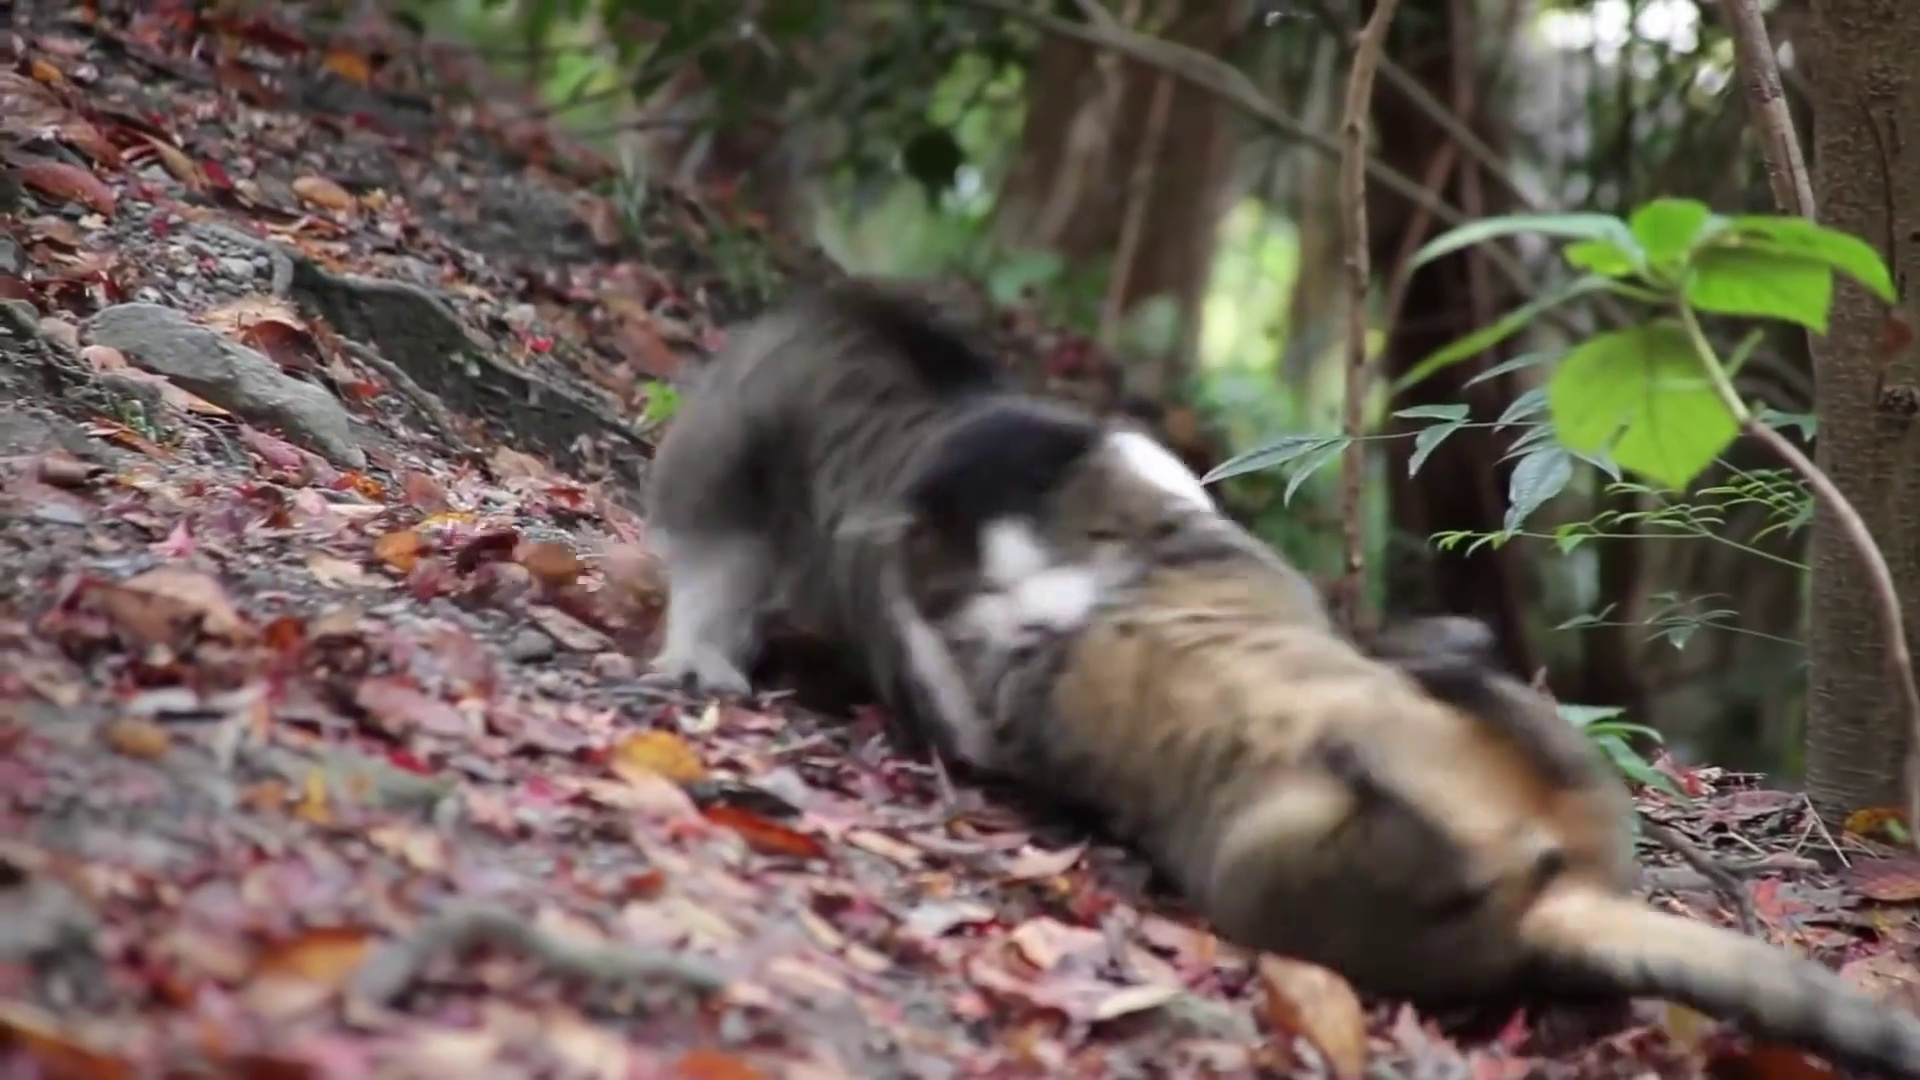black-white: (647, 274, 1222, 695)
pure black: (1007, 550, 1920, 1075)
